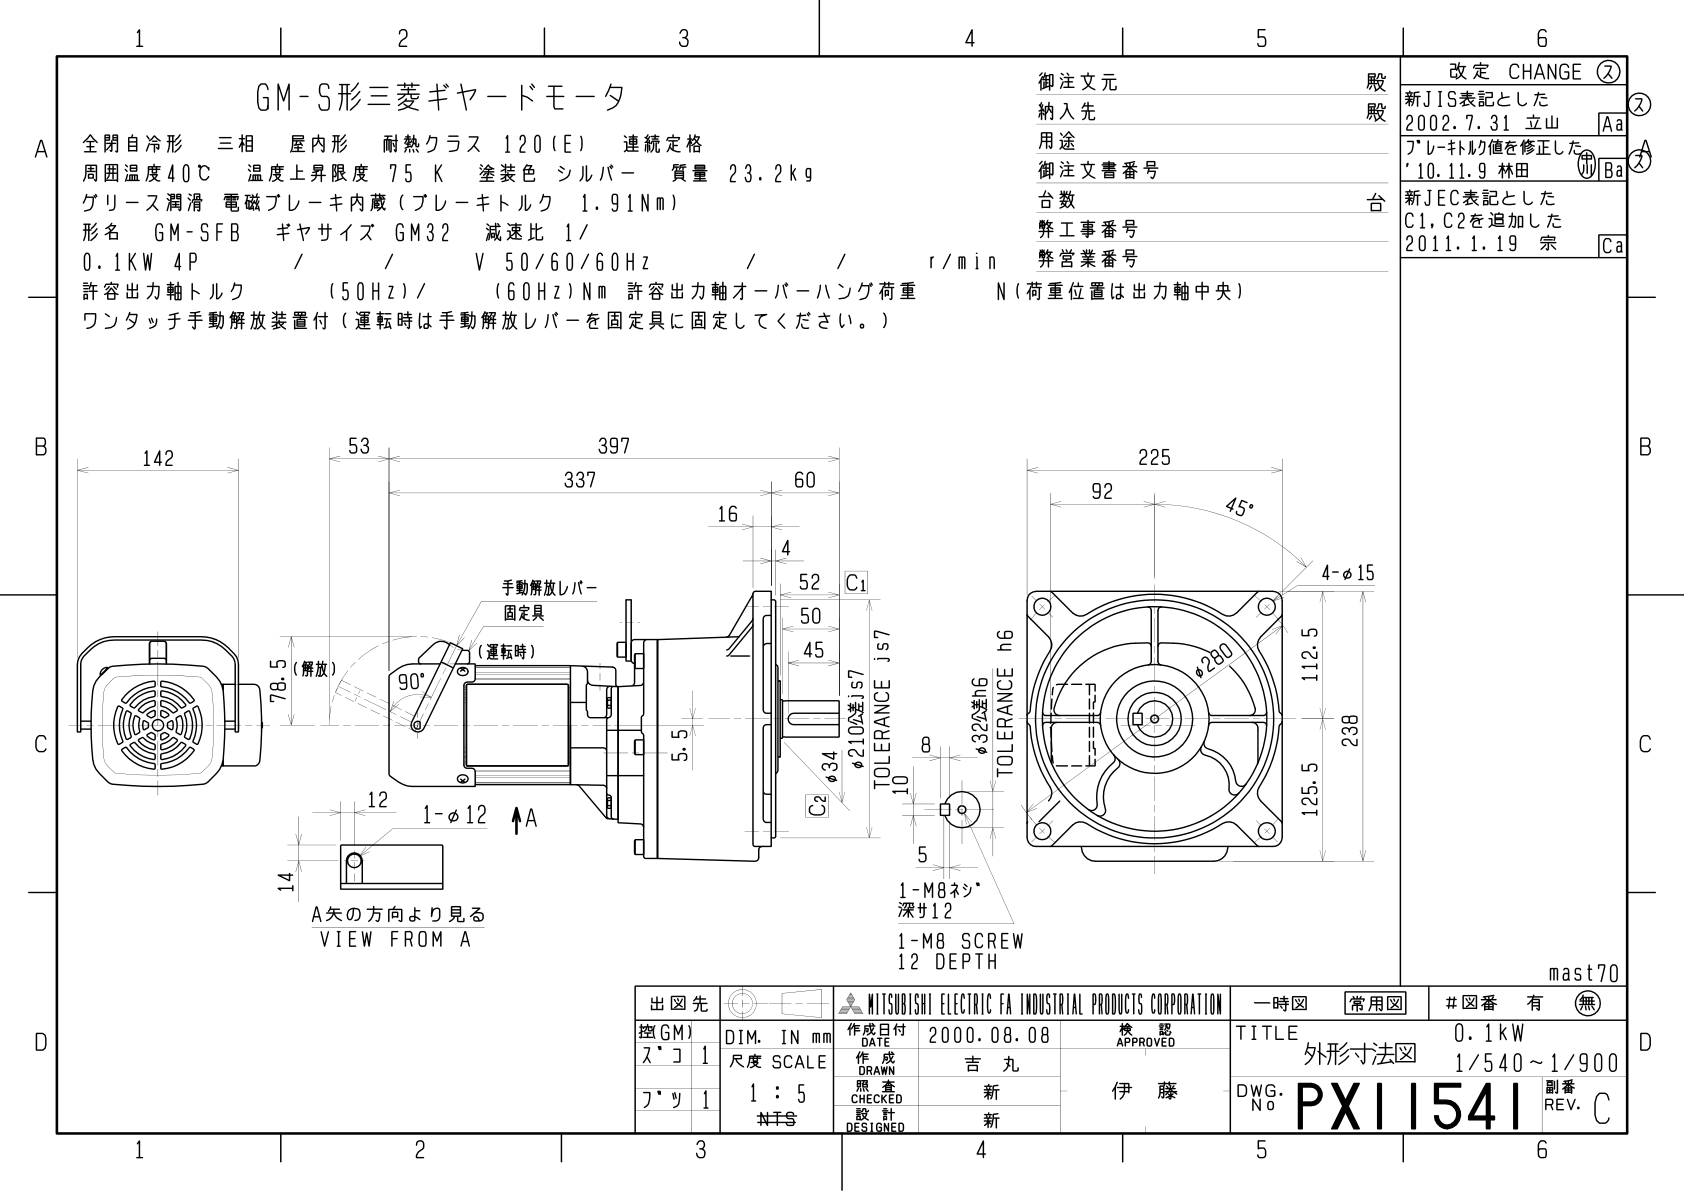GM_S_手動ブレーキ＿三相_フランジ: (8, 5, 1684, 1191)
